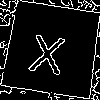X: (26, 24, 69, 75)
